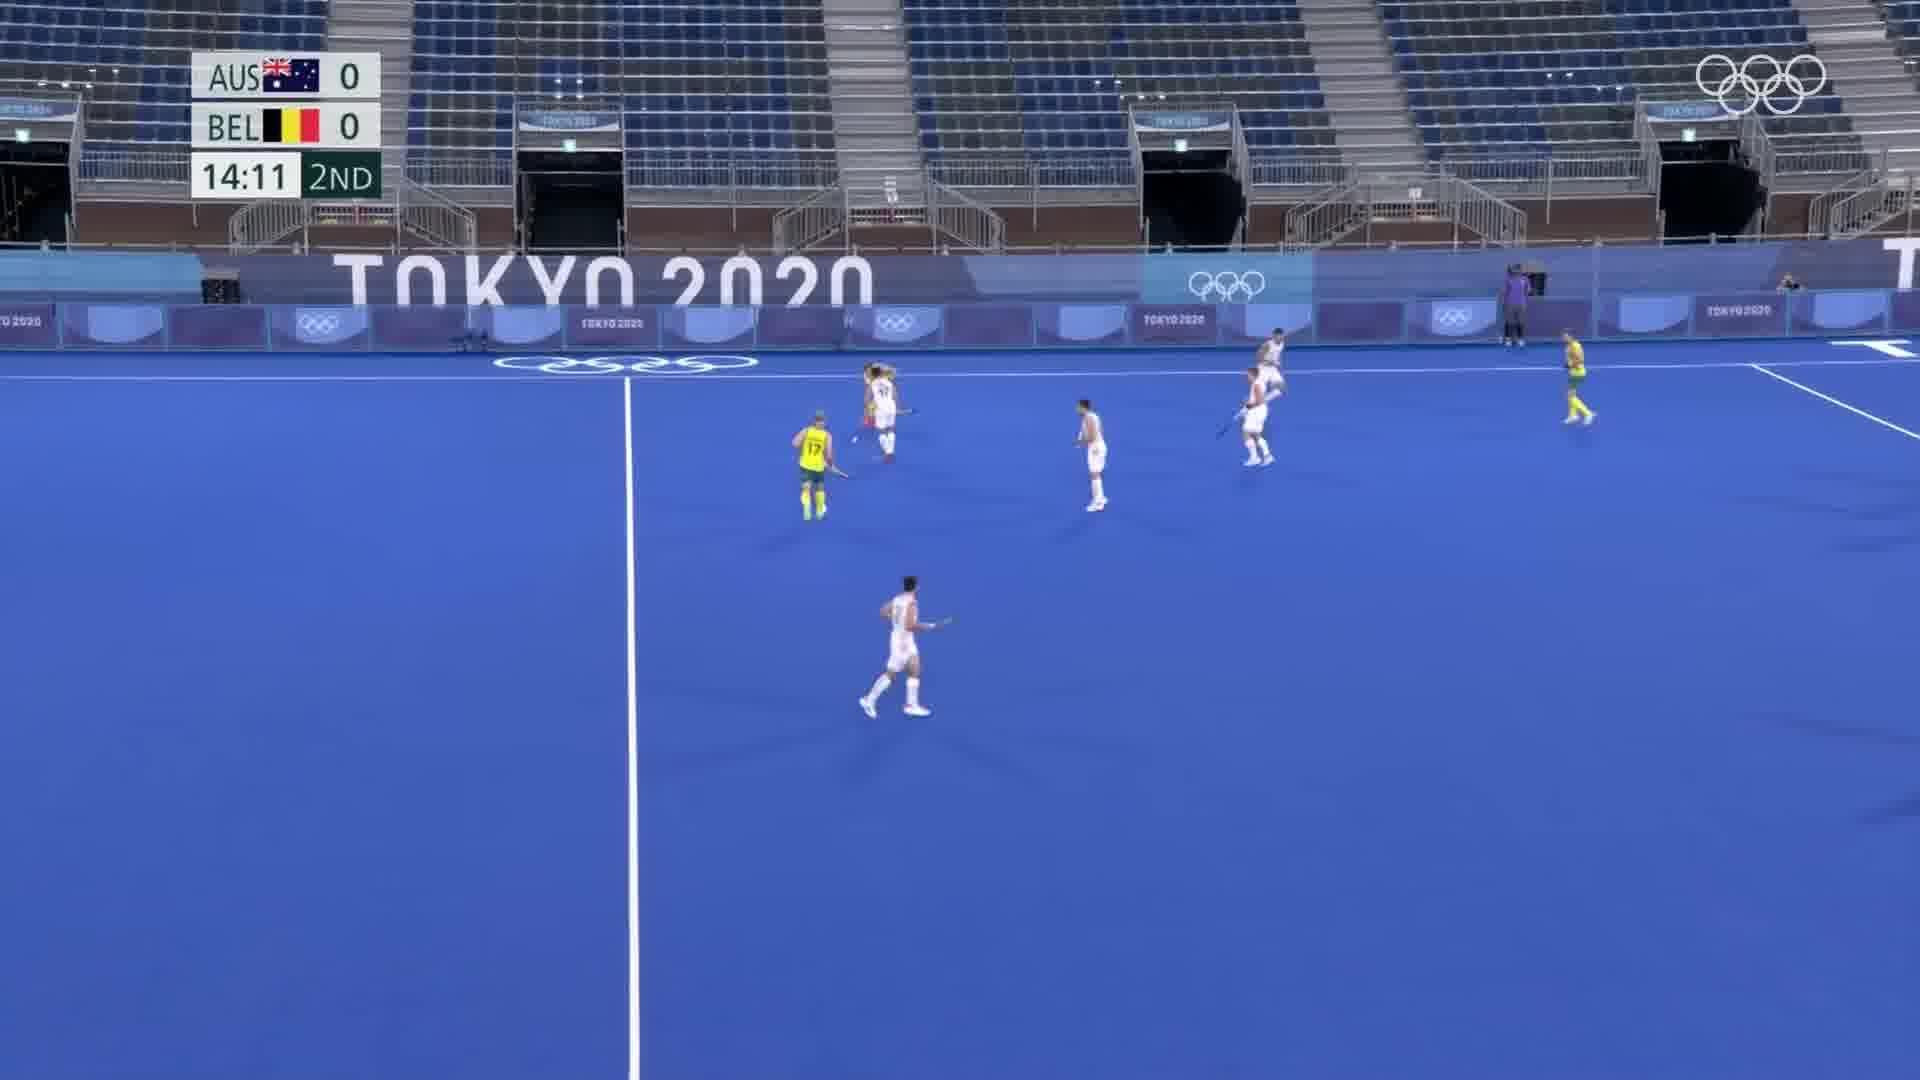ball: (848, 433, 862, 448)
